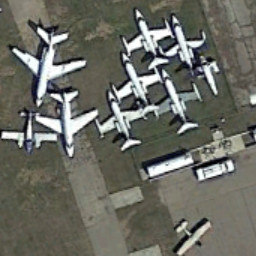Airplane: (15, 17, 93, 105), (38, 83, 97, 156), (1, 103, 57, 165), (93, 88, 142, 154), (121, 4, 170, 70), (113, 48, 160, 112), (152, 69, 196, 137), (160, 8, 209, 68), (169, 208, 225, 256)
